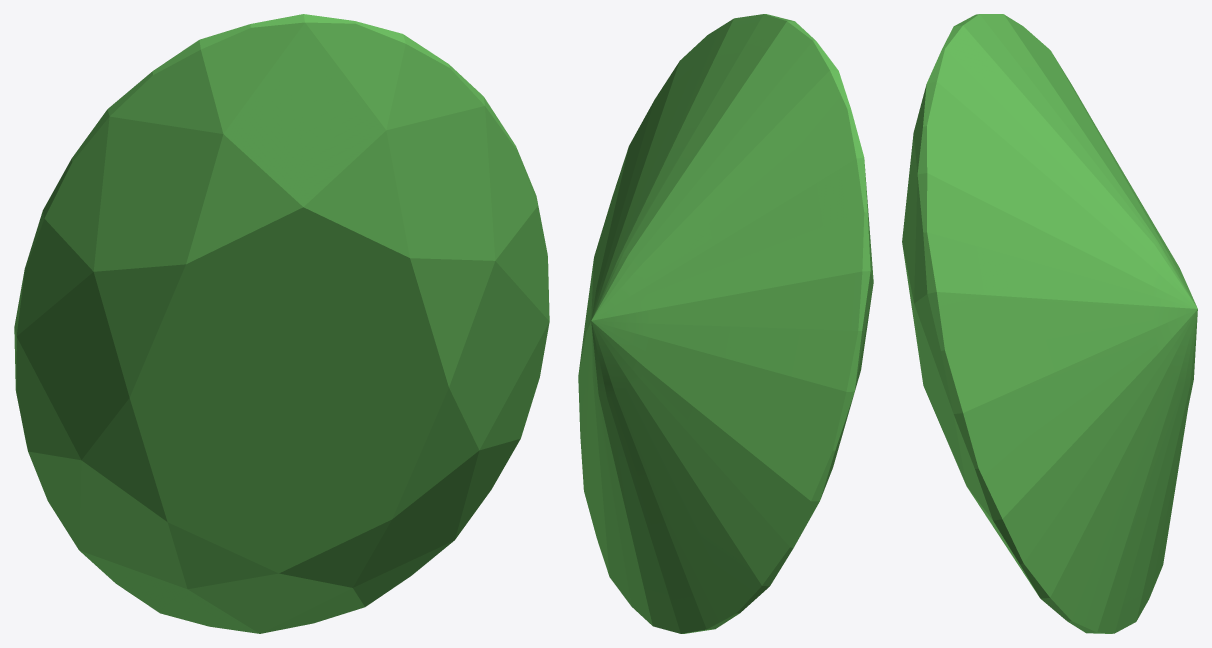
Rendered from BL2_8shapes_Oval_Classic_Stone.001 2.glb.
3 renders of one model, left to right at view 1: azimuth 30°, elevation 25°; view 2: azimuth 150°, elevation 25°; view 3: azimuth 270°, elevation 25°, orthographic. The views are drawn at different scales.
Parts seen in each view (by area): view 1: BL2_8shapes_Oval_Classic_Stone.001; view 2: BL2_8shapes_Oval_Classic_Stone.001; view 3: BL2_8shapes_Oval_Classic_Stone.001.
Boxes of the visible parts, left/top/right/bottom form: BL2_8shapes_Oval_Classic_Stone.001: left=14, top=14, right=549, bottom=633; BL2_8shapes_Oval_Classic_Stone.001: left=578, top=14, right=873, bottom=633; BL2_8shapes_Oval_Classic_Stone.001: left=902, top=14, right=1197, bottom=633.
Bounding box in the file's own units: 0.3525 × 0.5516 × 0.2576.
